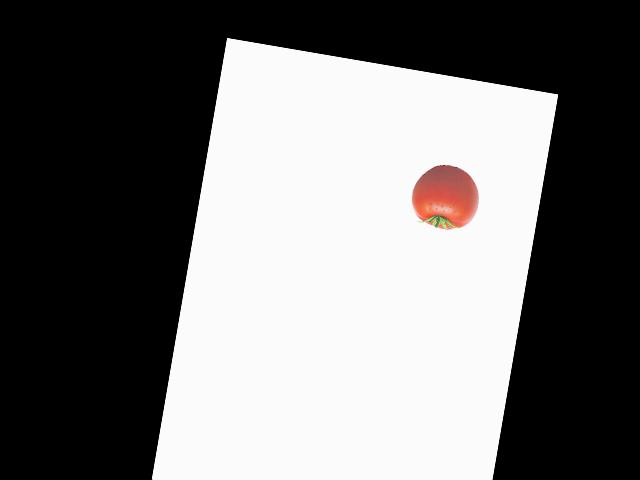tomato: (407, 160, 476, 232)
